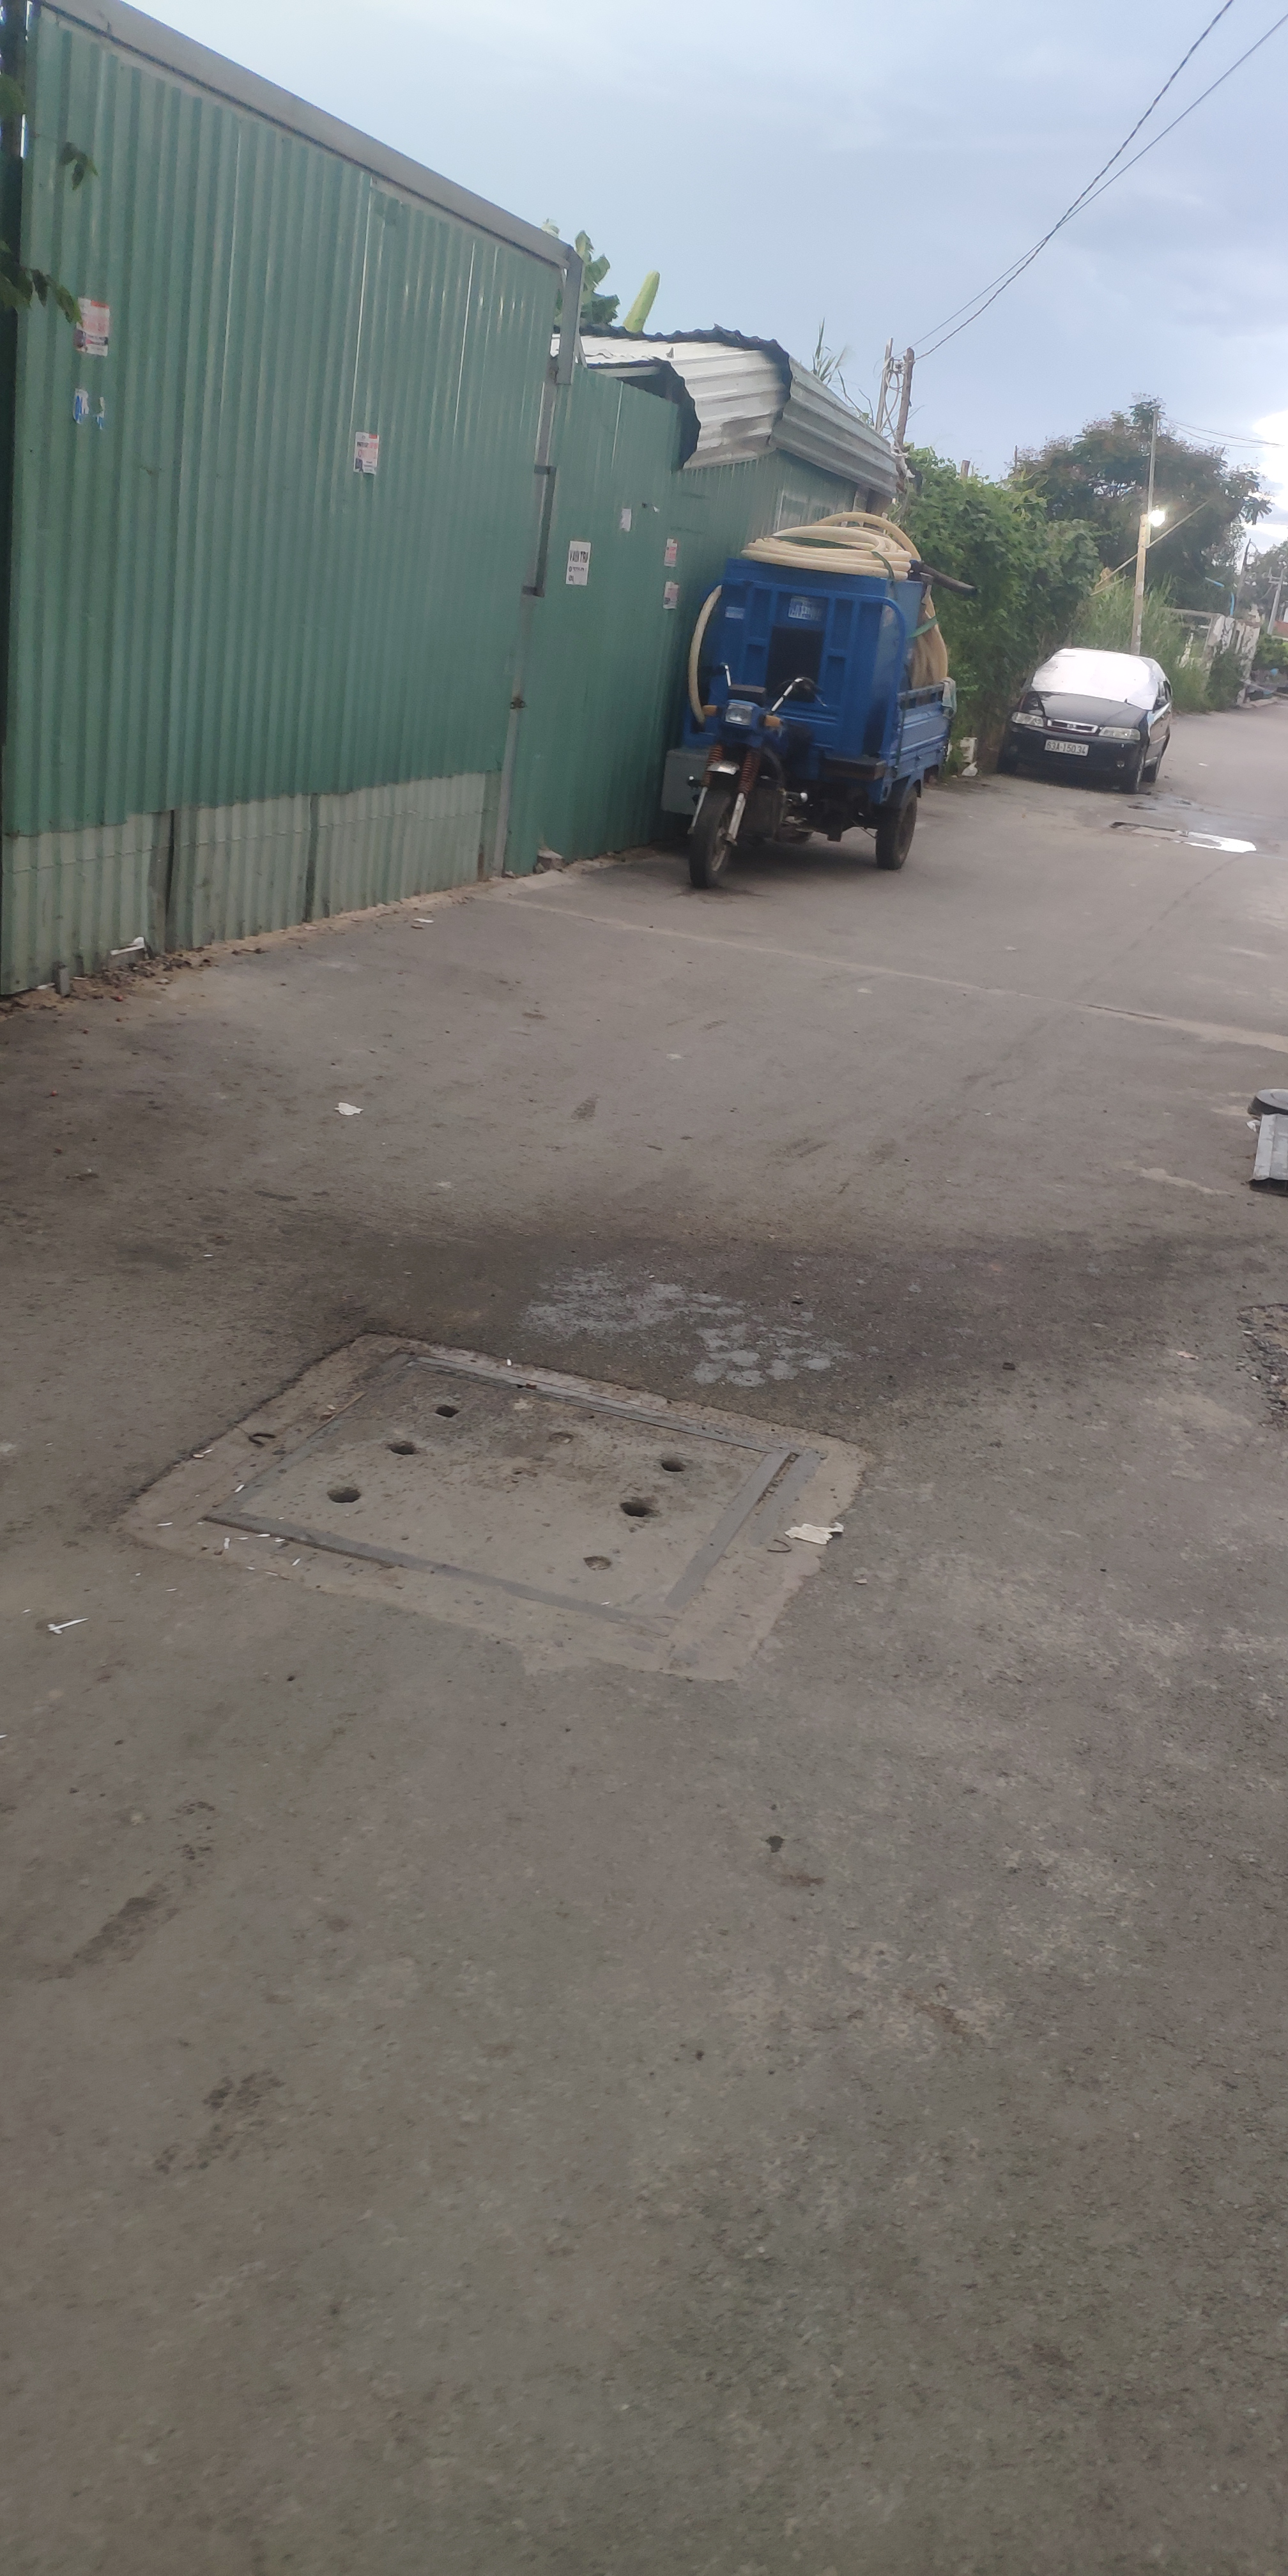hole: (1150, 792, 1193, 807), (1124, 802, 1160, 813)
